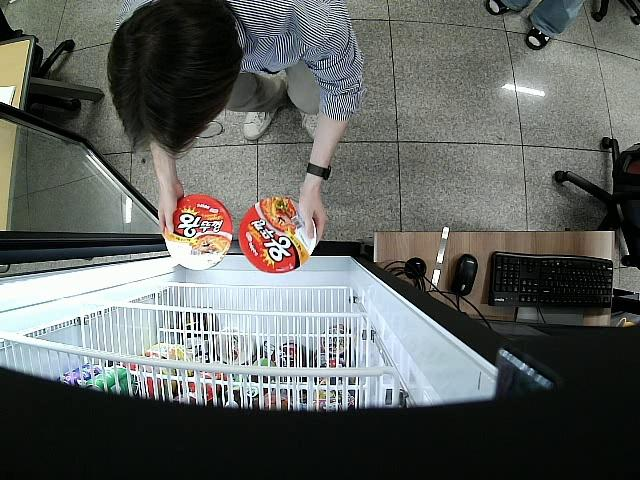00_hand: (156, 178, 184, 237), (298, 191, 327, 246)
10_wangTtukkeong: (239, 199, 316, 274), (166, 196, 230, 271)
